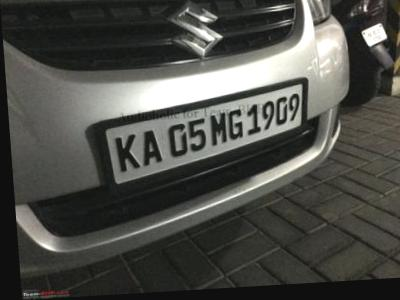License_Plate: (109, 81, 307, 194)
